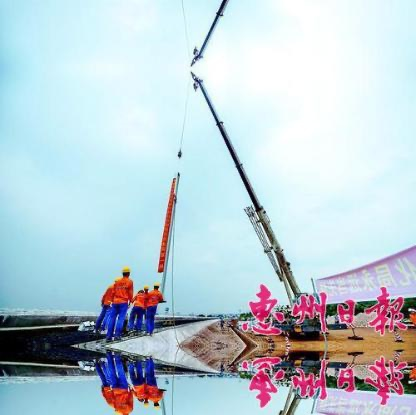Safety Helmet: (117, 265, 132, 283), (152, 280, 162, 297)
